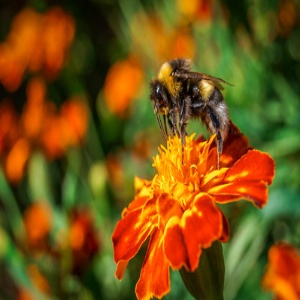bee: (150, 55, 237, 171)
